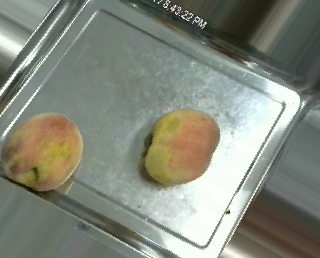Peach: (1, 112, 82, 190), (142, 107, 219, 184)
